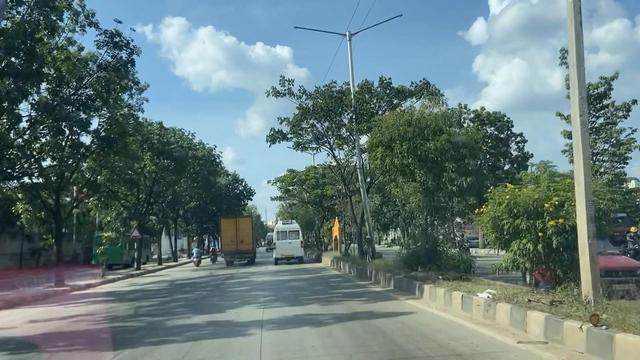HMV: (214, 213, 253, 264), (268, 221, 310, 262)
